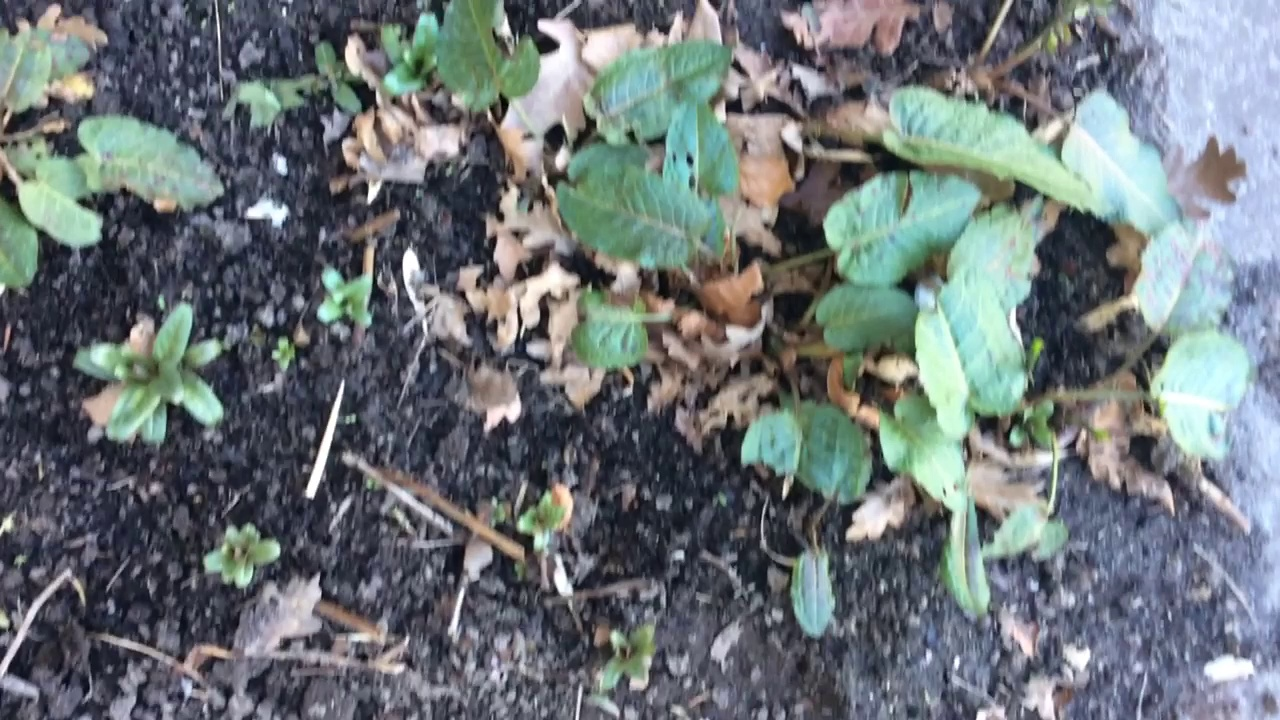rumex: (433, 24, 1222, 610), (1, 22, 230, 294)
